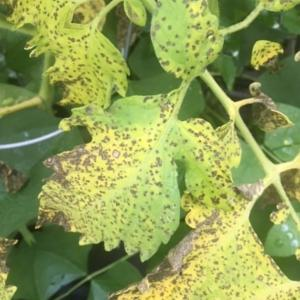Tomato leaf bacterial spot: (0, 64, 239, 300), (63, 138, 297, 300), (14, 9, 149, 144), (150, 94, 271, 222), (118, 0, 249, 102)
